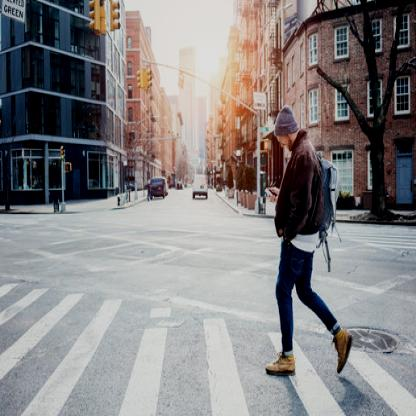jean: (265, 100, 356, 394)
